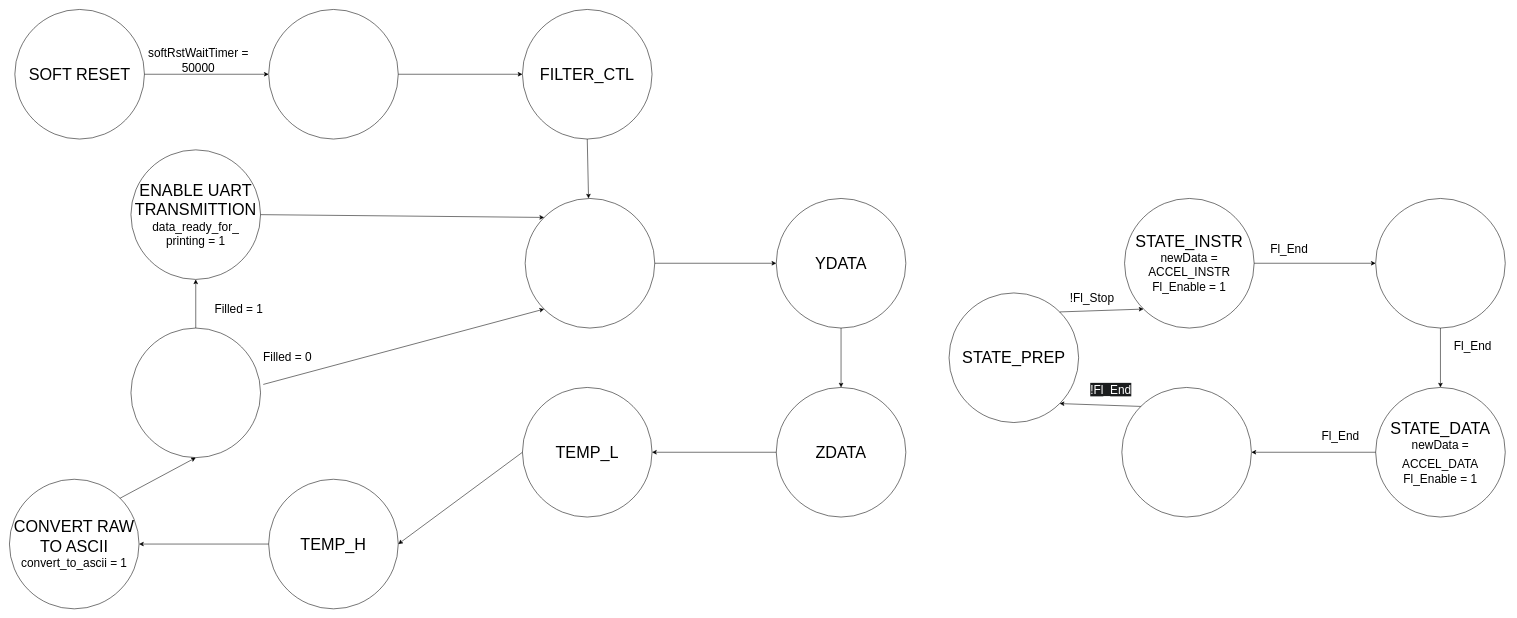
Some shapes in this 1517 by 618 pixel diagram are drawn without their labels. The shapes that lost their labels are listed below. From the top down, each one's box as (x1, y1, x2, y2) in pixels, then its label:
(268, 9, 398, 139): POWER CTL
(525, 198, 655, 328): XDATA
(1375, 198, 1505, 328): STATE_REG newData = ACCEL_REG Fl_Enable = 1
(130, 328, 261, 458): WAIT FOR RD
(1121, 387, 1251, 517): STATE_ COOLOFF Fl_Enable = 1
